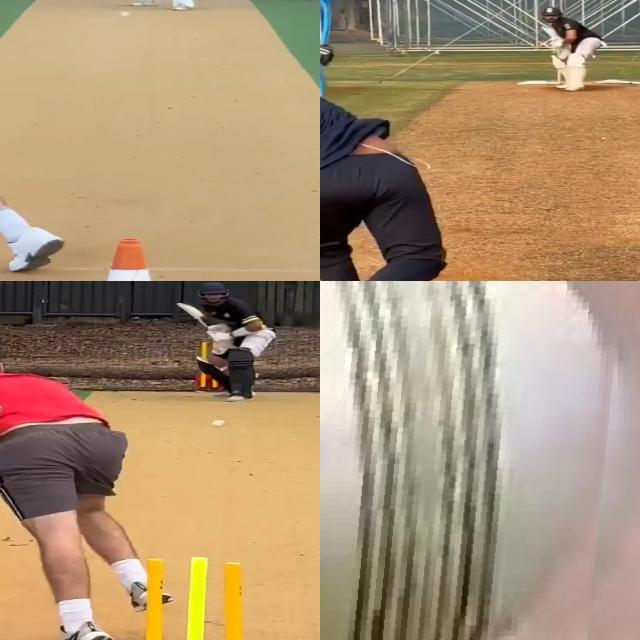Cricket ball: (320, 281, 632, 640), (209, 417, 227, 428), (117, 9, 133, 19)
Stumps: (124, 553, 264, 640)
